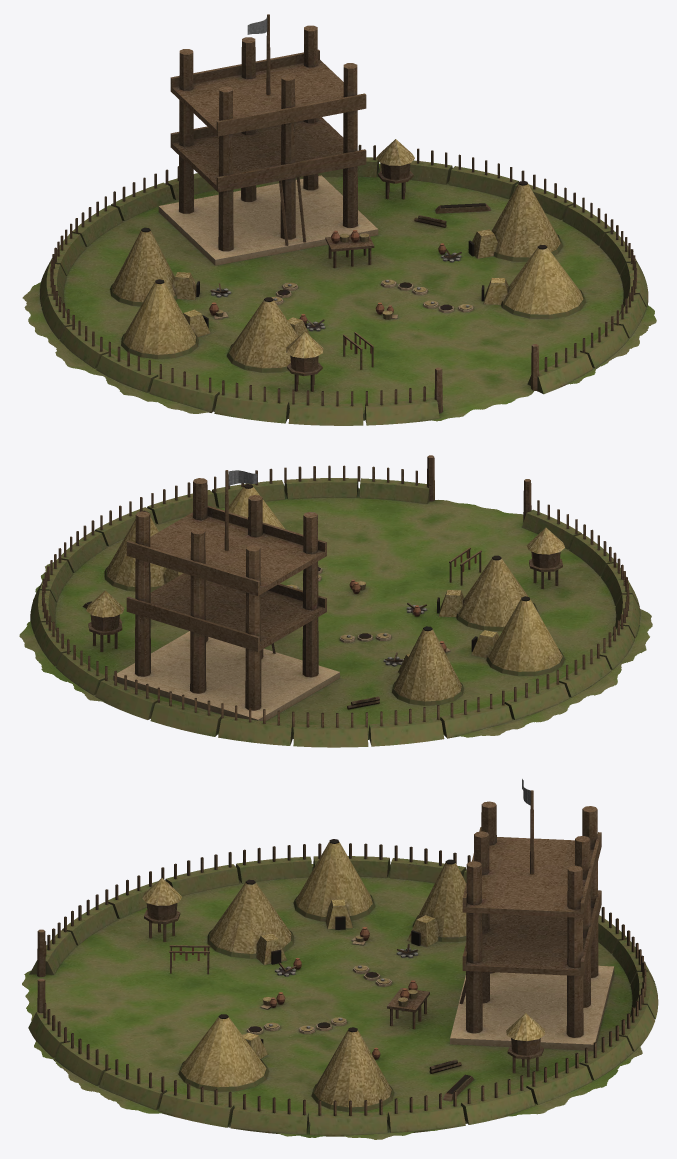
Rendered from stone-town-small-a-japan.glb.
3 renders of one model, top to bottom at view 1: azimuth 30°, elevation 25°; view 2: azimuth 150°, elevation 25°; view 3: azimuth 270°, elevation 25°, orthographic. The views are drawn at different scales.
Visible parts, largest first — view 1: LOD0; view 2: LOD0; view 3: LOD0.
Boxes of the visible parts, x1=… form: LOD0: x1=22, y1=14, x2=656, y2=425; LOD0: x1=19, y1=455, x2=652, y2=747; LOD0: x1=22, y1=779, x2=658, y2=1139.
Size of what is drawn, in the model's own units: 3.97 by 1.45 by 3.84.
Materials: 3 (3 with a texture image).
